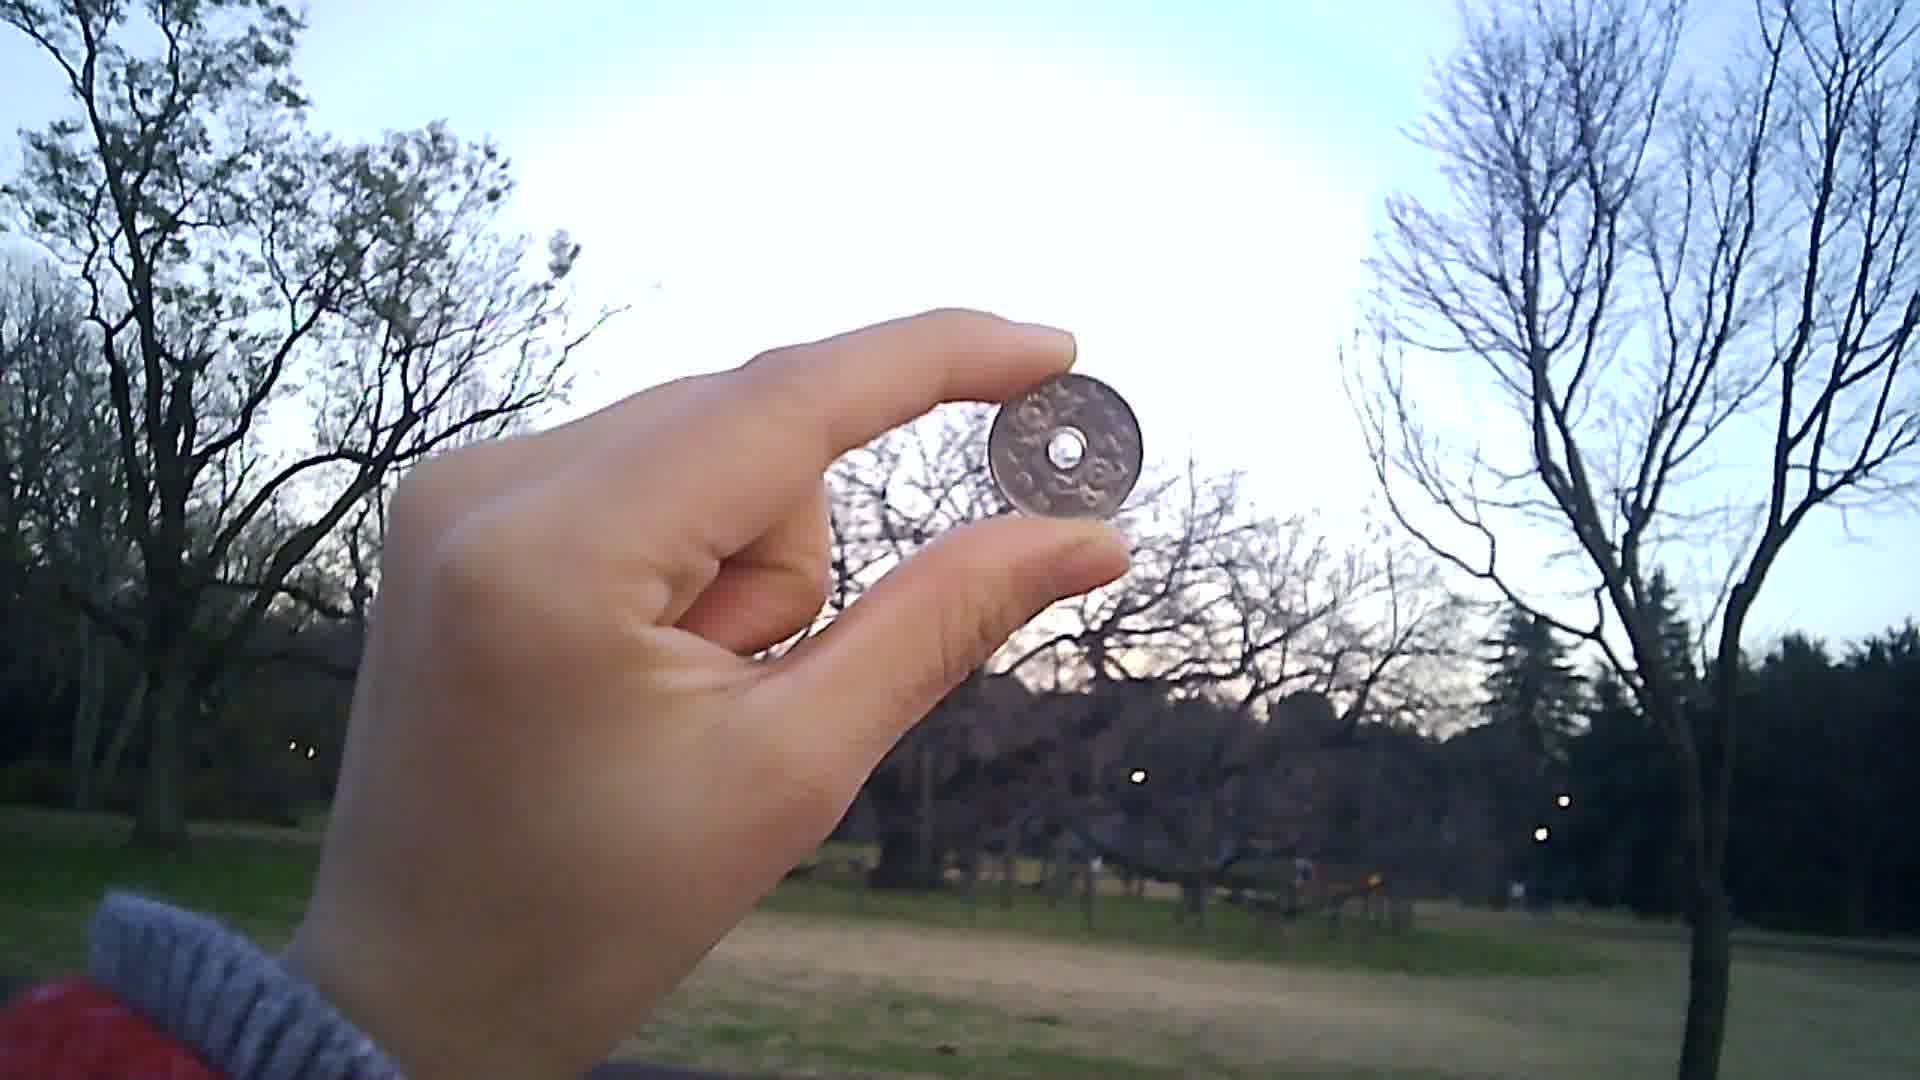50 Yen: (981, 364, 1142, 531)
